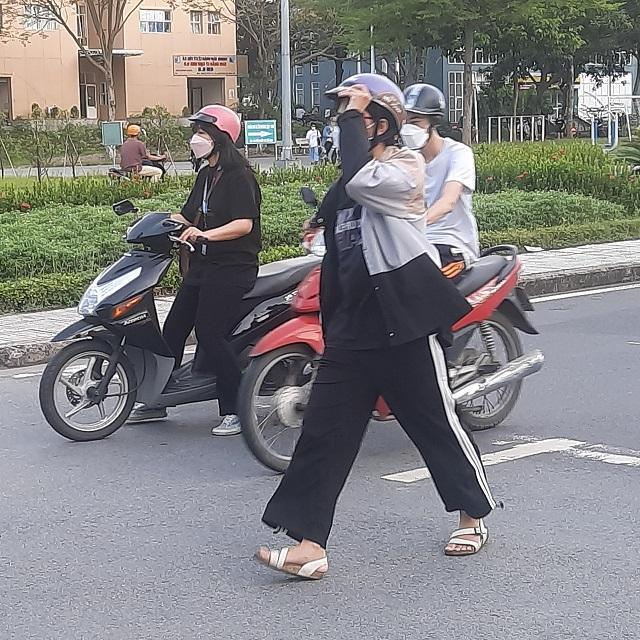Helmet: (331, 72, 399, 156), (188, 104, 240, 164), (397, 83, 447, 141)
